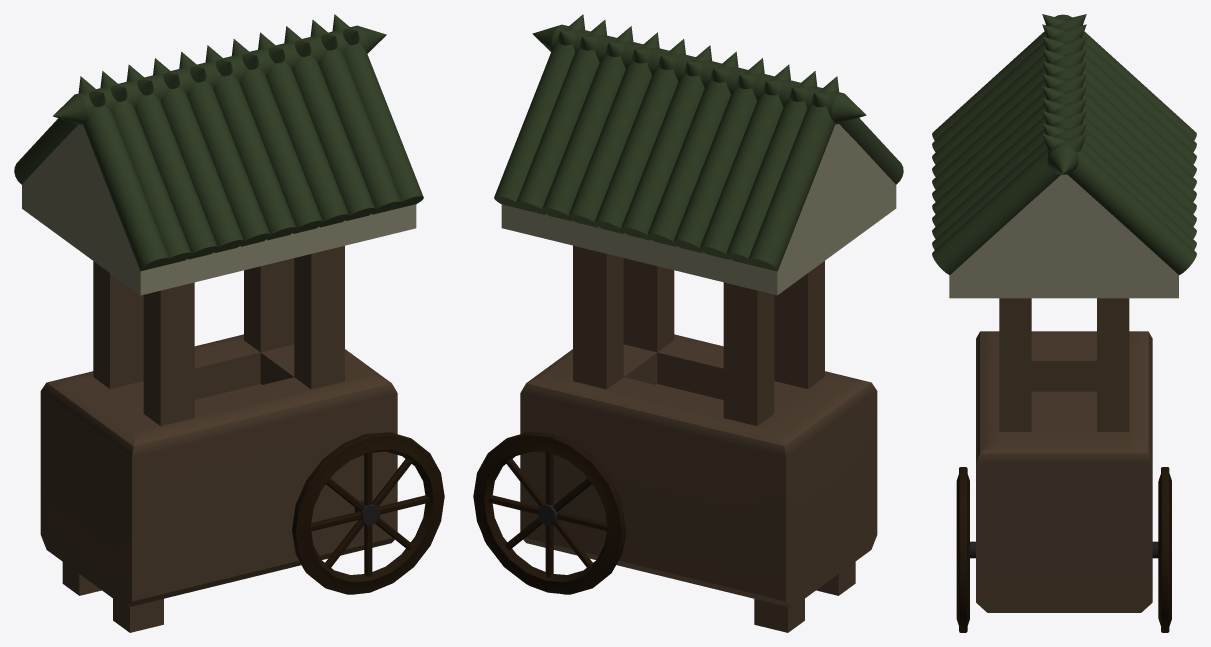
The model's file is Cart.fbx.
3 views of the same model, side by side, from view 1: azimuth 30°, elevation 25°; view 2: azimuth 150°, elevation 25°; view 3: azimuth 270°, elevation 25° (orthographic). The views are drawn at different scales.
Parts seen in each view (by area): view 1: Cart2_Cart_Body; view 2: Cart2_Cart_Body; view 3: Cart2_Cart_Body.
Boxes of the visible parts, x1,y1,x2,y2 form: Cart2_Cart_Body: (14, 14, 444, 632); Cart2_Cart_Body: (473, 14, 903, 632); Cart2_Cart_Body: (932, 14, 1196, 632).
Bounding box in the file's own units: 3.87 × 5.73 × 2.71.
